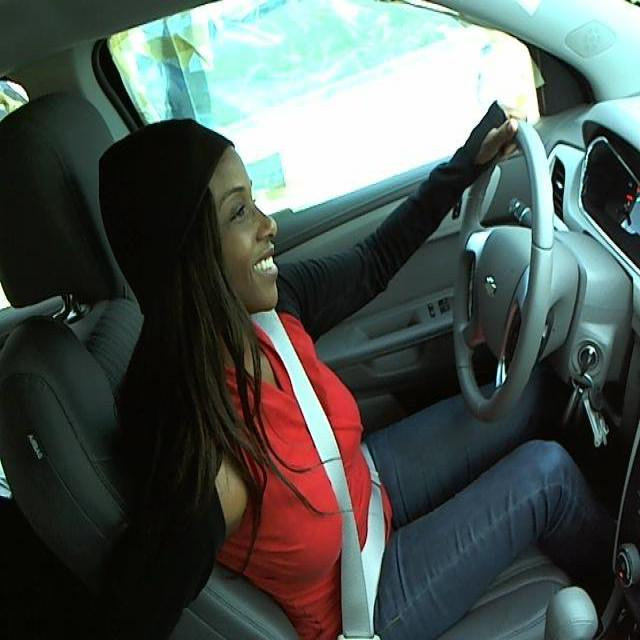seatbelt: (251, 318, 397, 626)
